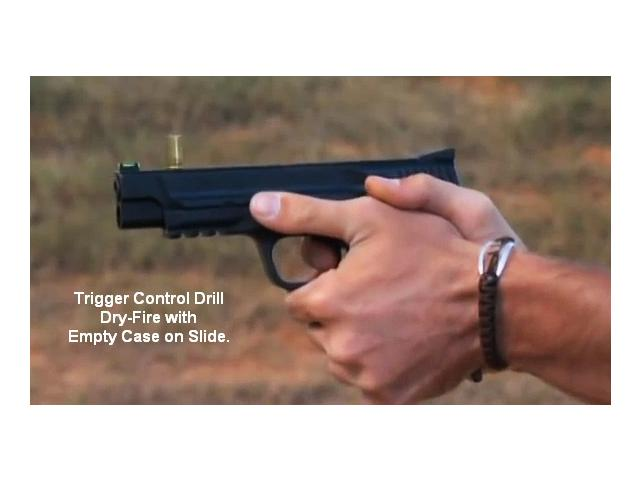pistol: (114, 149, 465, 385)
